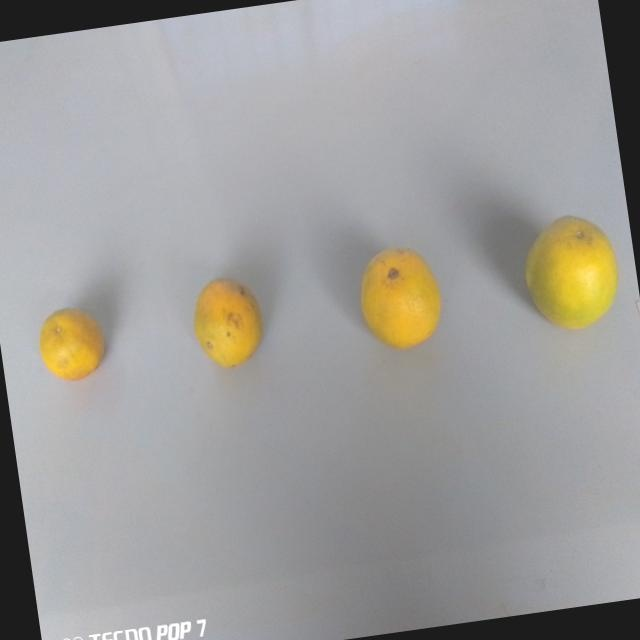agrume: (517, 205, 630, 336), (348, 238, 448, 359), (185, 268, 275, 381), (26, 298, 114, 393)
